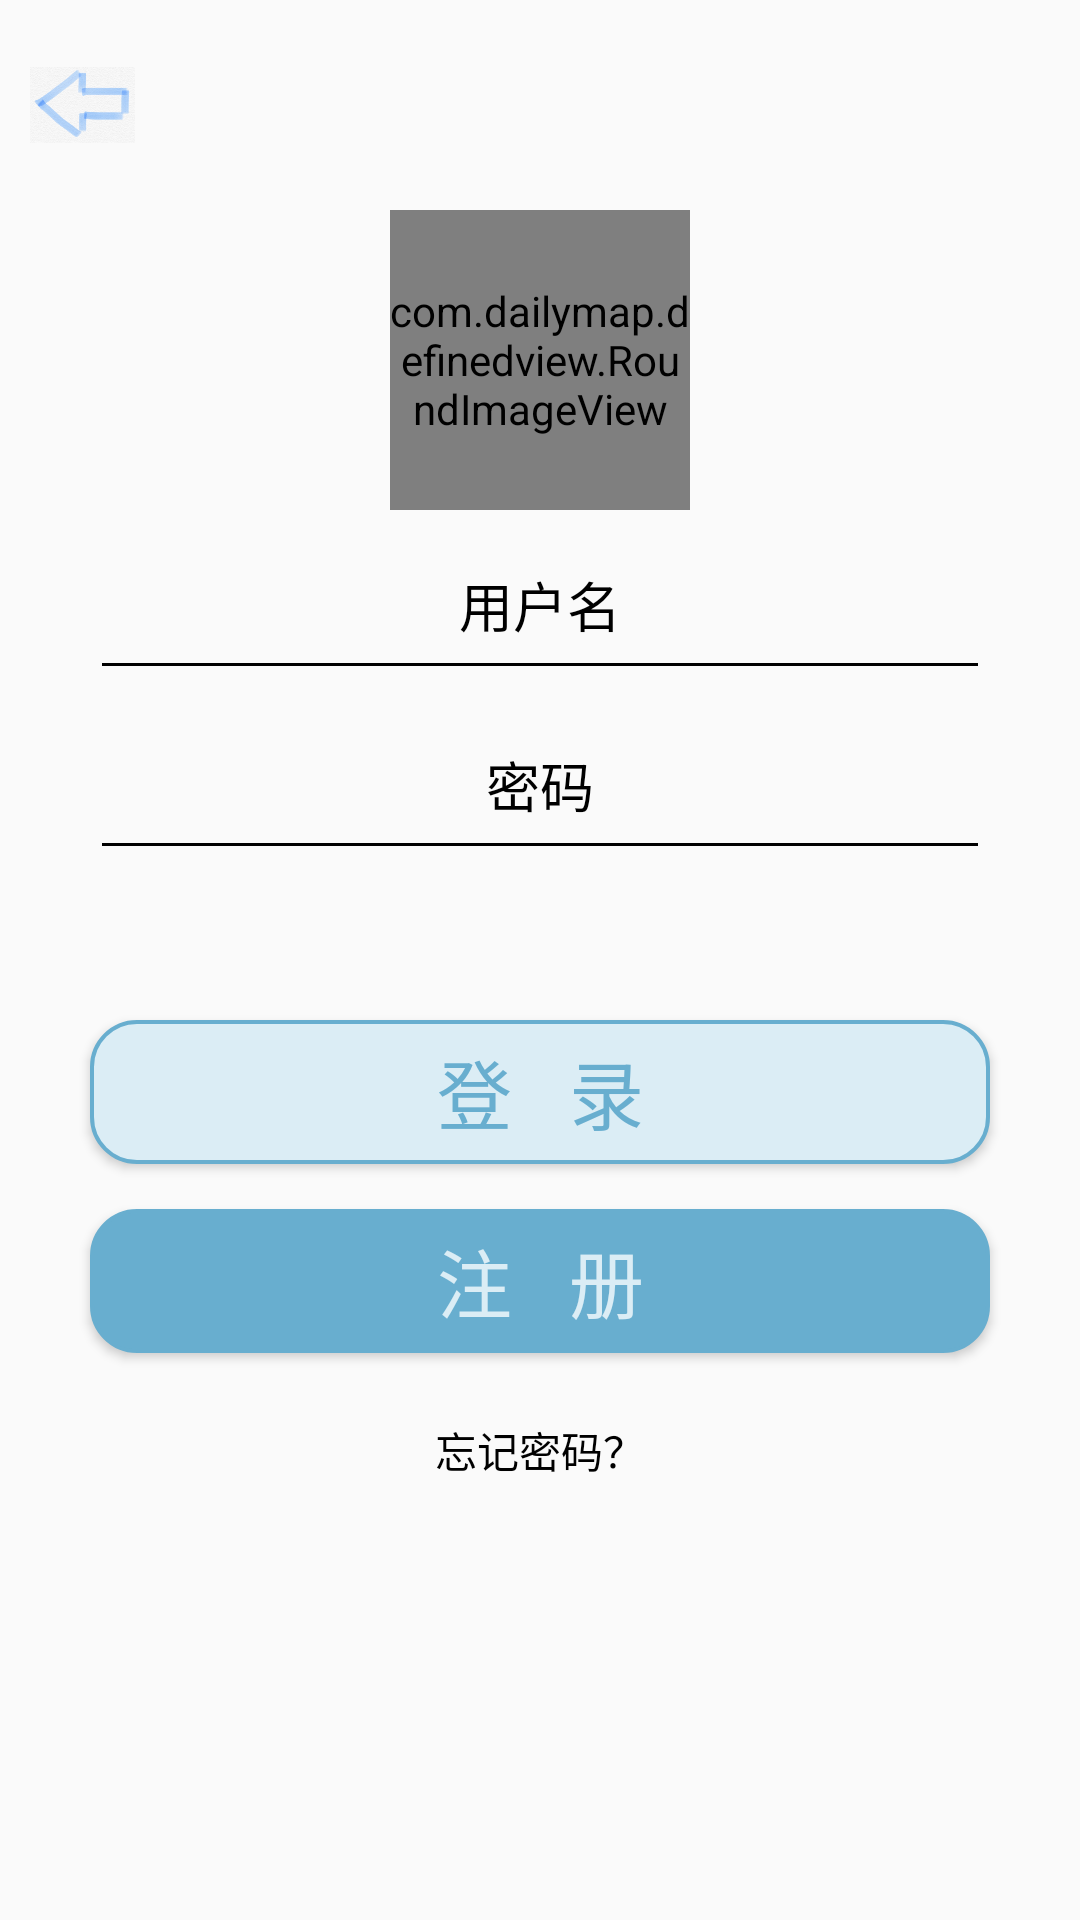

Icons on this 1080w x 1920h Android screen, each with its box as (x1, y1, x2, y2):
back: (35, 70, 129, 137)
